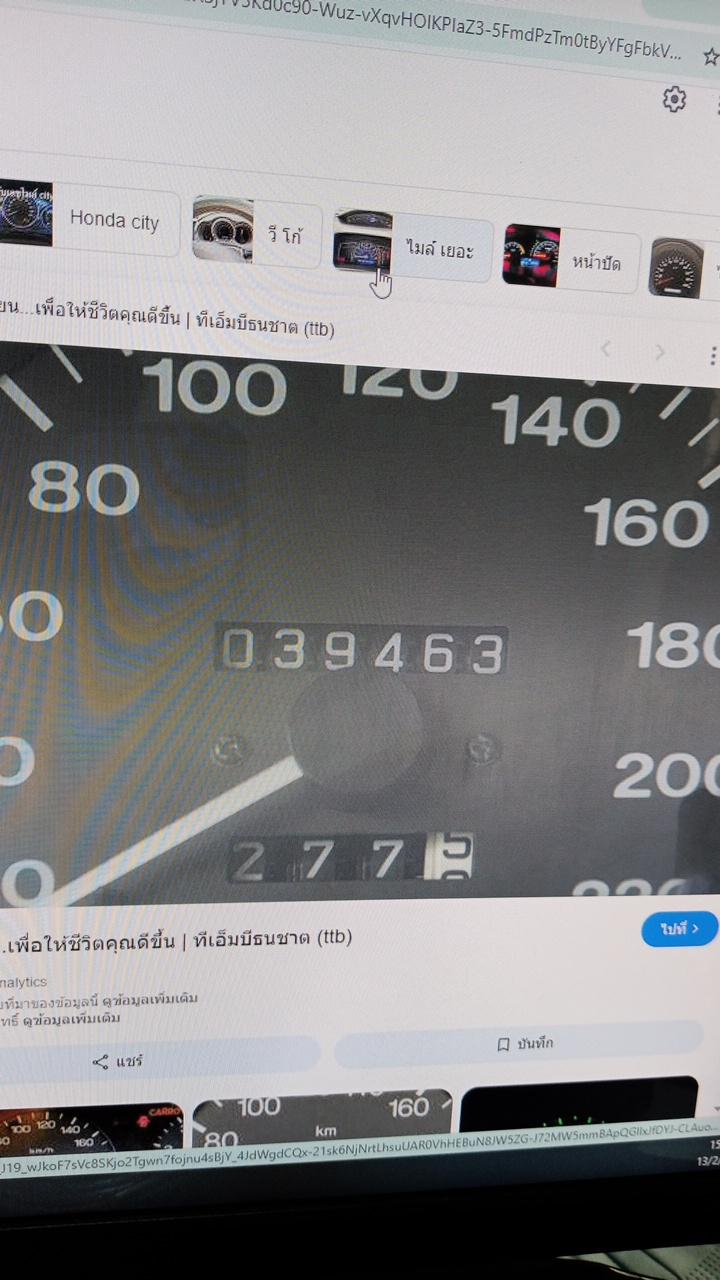0: (222, 627, 255, 670)
3: (272, 628, 306, 671), (472, 634, 504, 676)
4: (372, 630, 405, 674)
6: (423, 631, 455, 674)
9: (323, 631, 357, 672)
odometer: (210, 618, 509, 680)
